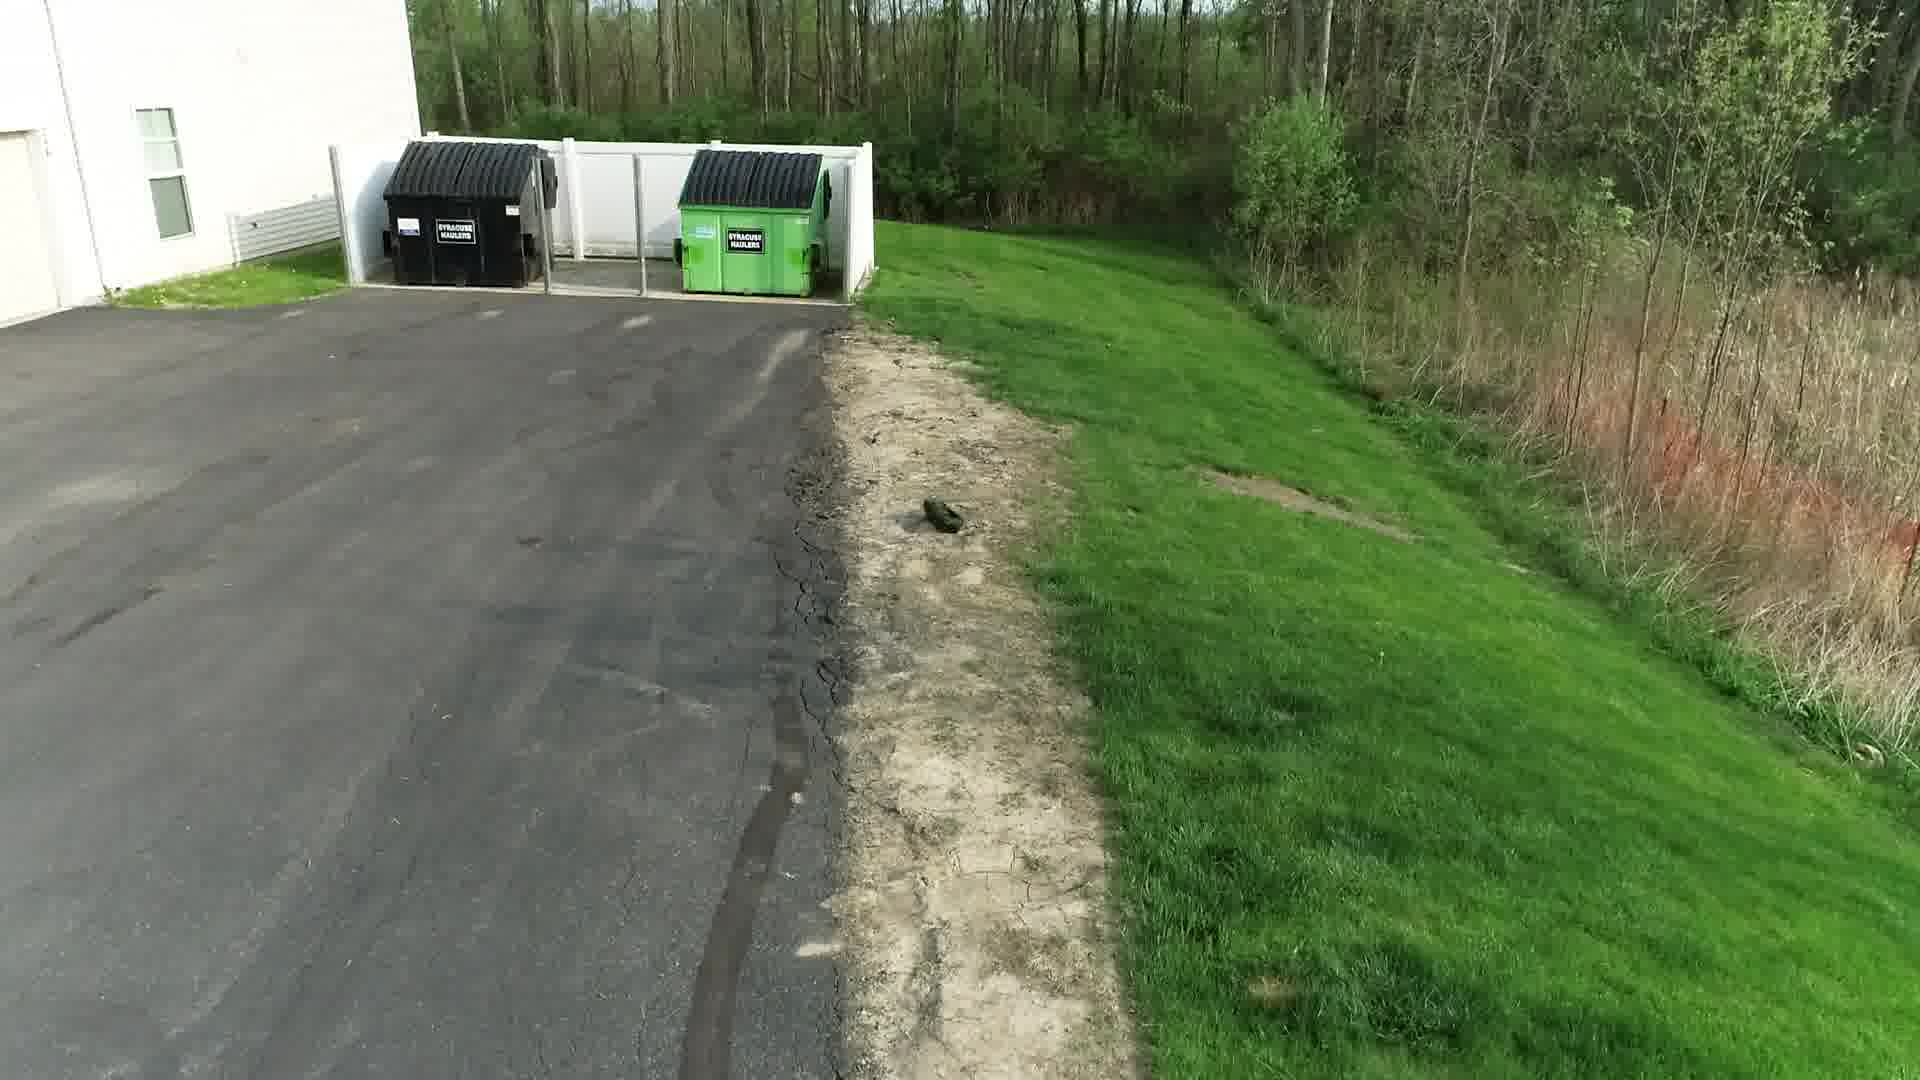transporter9: (922, 496, 968, 535)
